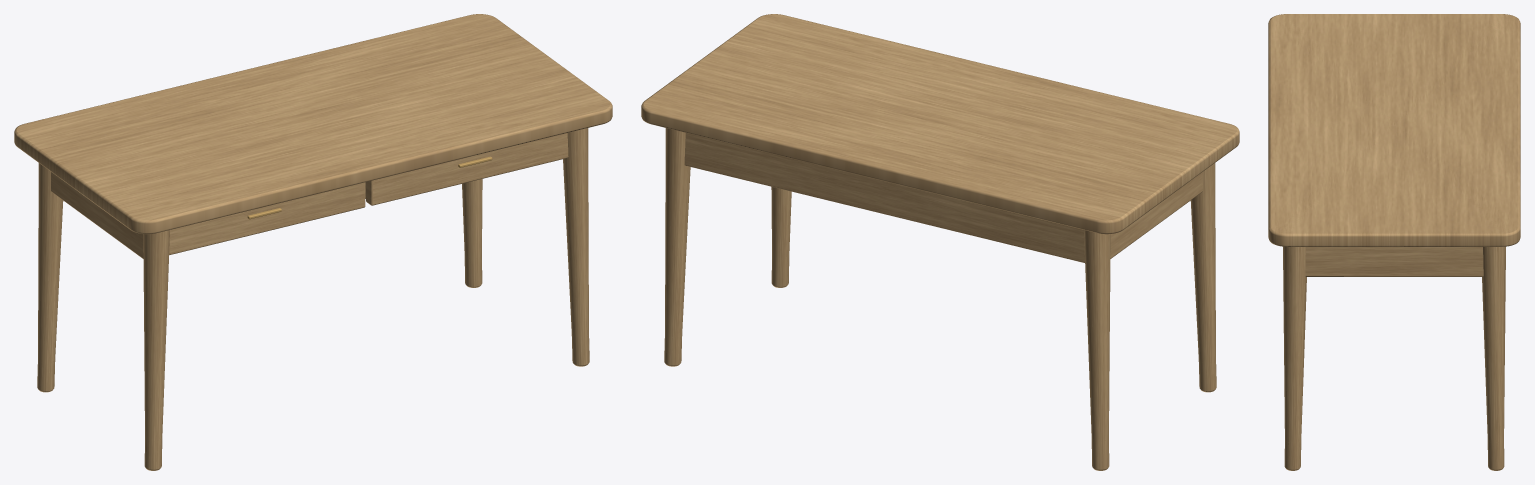
Rendered from home_craft_desk.glb.
3 renders of one model, left to right at view 1: azimuth 30°, elevation 25°; view 2: azimuth 150°, elevation 25°; view 3: azimuth 270°, elevation 25°, orthographic. The views are drawn at different scales.
Visible parts, largest first — view 1: Oak_detail_group; view 2: Oak_detail_group; view 3: Oak_detail_group.
Boxes of the visible parts, x1=… form: Oak_detail_group: x1=14, y1=14, x2=612, y2=470; Oak_detail_group: x1=641, y1=14, x2=1239, y2=470; Oak_detail_group: x1=1268, y1=14, x2=1520, y2=470.
Bounding box in the file's own units: 1.54 × 0.795 × 0.74.
Materials: 2 (1 with a texture image).
